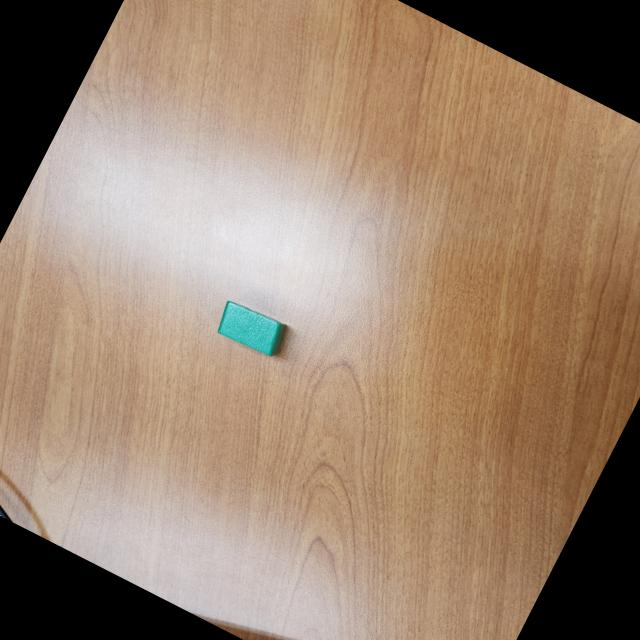green: (212, 296, 292, 362)
